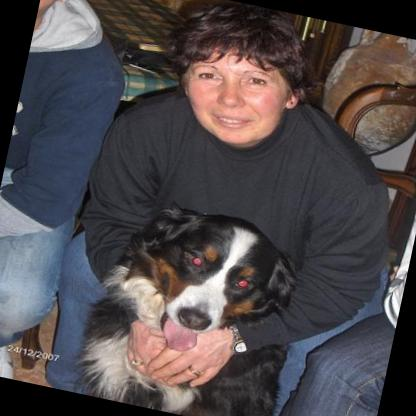Bernese_mountain_dog: (72, 190, 310, 416)
